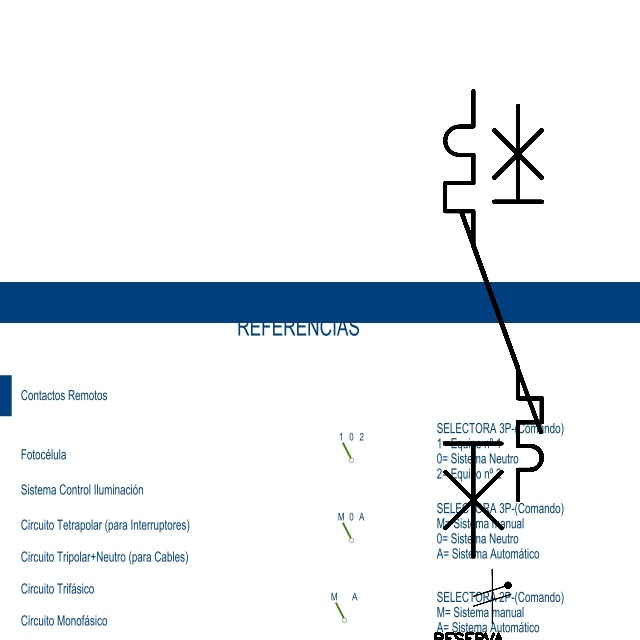interruptor_termomagnetico: (433, 79, 553, 569), (451, 96, 552, 510)
